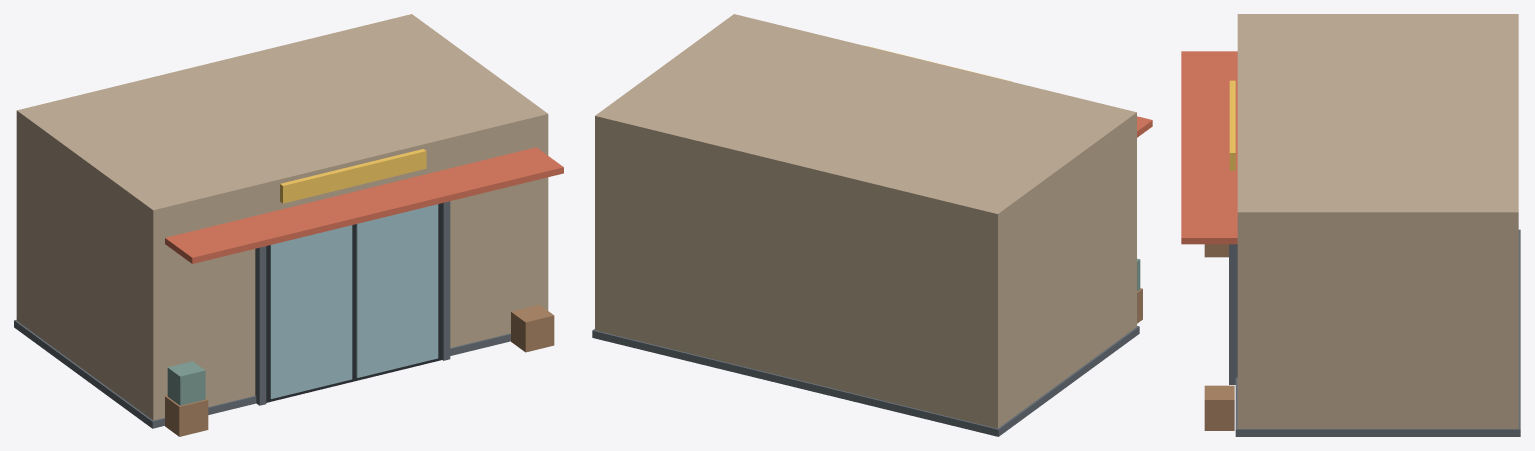
File: portal.gltf
The picture shows the model from 3 angles, left to right: view 1: azimuth 30°, elevation 25°; view 2: azimuth 150°, elevation 25°; view 3: azimuth 270°, elevation 25°; orthographic projection. The views are drawn at different scales.
Visible parts, largest first — view 1: cuerpo, cristal_der, cristal_izq, toldo, rotulo, hueco, zocalo, marco_izq, maceta_der, arbusto_izq, marco_der, maceta_izq; view 2: cuerpo, zocalo; view 3: cuerpo, toldo, zocalo, maceta_der, marco_der, rotulo, maceta_izq.
Part boxes in pixels (x1=…): cuerpo: x1=16, y1=14, x2=548, y2=420; cristal_der: x1=356, y1=204, x2=438, y2=377; cristal_izq: x1=270, y1=225, x2=352, y2=398; toldo: x1=165, y1=147, x2=563, y2=263; rotulo: x1=280, y1=149, x2=426, y2=203; hueco: x1=266, y1=203, x2=442, y2=402; zocalo: x1=14, y1=320, x2=510, y2=428; marco_izq: x1=255, y1=246, x2=266, y2=405; maceta_der: x1=511, y1=305, x2=554, y2=352; arbusto_izq: x1=167, y1=361, x2=205, y2=405; marco_der: x1=442, y1=201, x2=450, y2=360; maceta_izq: x1=165, y1=395, x2=208, y2=436; cuerpo: x1=595, y1=14, x2=1136, y2=428; zocalo: x1=592, y1=326, x2=1139, y2=436; cuerpo: x1=1237, y1=14, x2=1518, y2=428; toldo: x1=1181, y1=51, x2=1237, y2=244; zocalo: x1=1235, y1=229, x2=1520, y2=436; maceta_der: x1=1204, y1=385, x2=1234, y2=430; marco_der: x1=1229, y1=244, x2=1237, y2=384; rotulo: x1=1229, y1=80, x2=1235, y2=170; maceta_izq: x1=1204, y1=244, x2=1228, y2=257.
Bounding box in the file's own units: 4.72 × 2.46 × 3.38.
